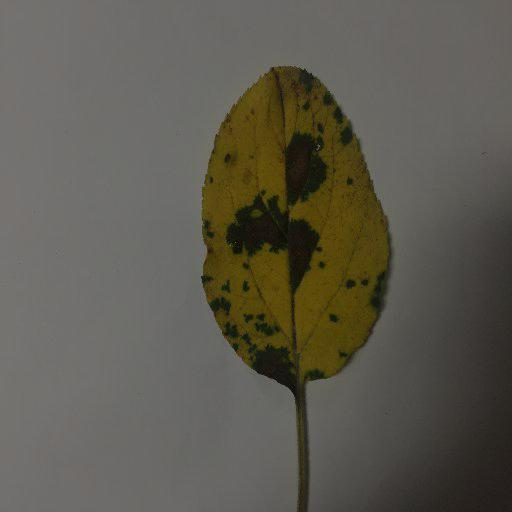Brown_Spot: (224, 207, 327, 289), (278, 134, 332, 196), (250, 343, 307, 390)
